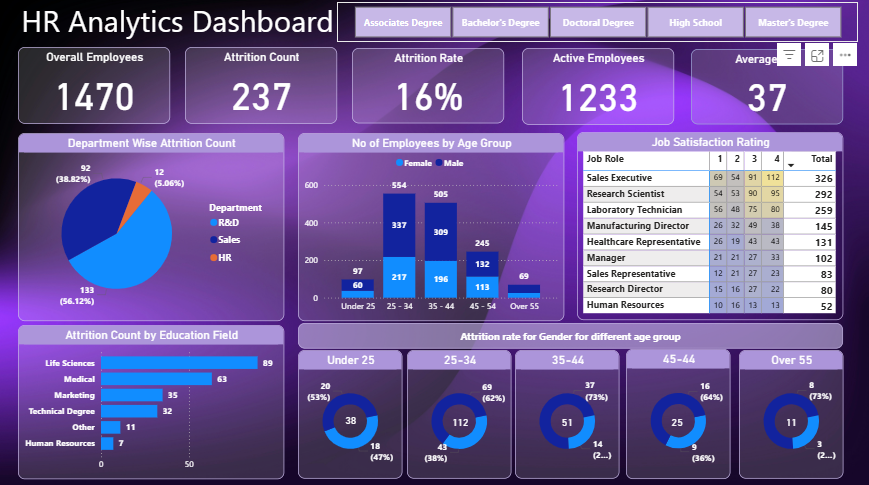

This screenshot's page, from the dashboard's own definition file:
{"tool":"powerbi","page":{"name":"Page 1","canvas":[1280,720],"ordinal":0},"visuals":[{"type":"card","title":"Overall Employees","fields":{"Values":["Sum(Table1.Employee Count)"]},"box":[40.3,82.3,220.1,110.9],"z":0},{"type":"card","title":"Attrition Count","fields":{"Values":["Sum(Table1.Attrition Count)"]},"box":[282.2,82.3,220.1,110.9],"z":1000},{"type":"card","title":"Attrition Rate","fields":{"Values":["Table1.Attrition Rate"]},"box":[524.1,84,220.1,109.2],"z":2000},{"type":"card","title":"Active Employees","fields":{"Values":["Table1.Active Employees"]},"box":[769.3,84,220.1,110.9],"z":3000},{"type":"card","title":"Average Age","fields":{"Values":["Table1.Average Age"]},"box":[1012.9,85.7,220.1,109.2],"z":4000},{"type":"pieChart","title":"Department Wise Attrition Count ","fields":{"Category":["Table1.Department"],"Y":["Sum(Table1.Attrition Count)"]},"box":[40.5,206.7,384.6,271.8],"z":5000},{"type":"columnChart","title":"No of Employees by Age Group","fields":{"Category":["Table1.CF_age band"],"Y":["CountNonNull(Table1.Employee Number)"],"Series":["Table1.Gender"]},"box":[445.1,206.6,384.7,272.1],"z":6000},{"type":"pivotTable","title":"Job Satisfaction Rating","fields":{"Rows":["Table1.Job Role"],"Columns":["Table1.Job Satisfaction"],"Values":["CountNonNull(Table1.Employee Number)"]},"box":[848.3,204.9,384.7,272.1],"z":7000},{"type":"barChart","title":"Attrition Count by Education Field","fields":{"Category":["Table1.Education Field"],"Y":["Sum(Table1.Attrition Count)"]},"box":[40.3,483.8,384.7,223.4],"z":8000},{"type":"donutChart","title":"Under 25","fields":{"Category":["Table1.Gender"],"Y":["Sum(Table1.Attrition Count)"],"Series":["Table1.CF_age band"]},"box":[445.1,520.7,151.2,186.5],"z":9000},{"type":"textbox","box":[445.1,482.1,787.8,37],"z":10000},{"type":"donutChart","title":"25-34","fields":{"Category":["Table1.Gender"],"Y":["Sum(Table1.Attrition Count)"],"Series":["Table1.CF_age band"]},"box":[603,520.7,151.2,186.5],"z":11000},{"type":"donutChart","title":"35-44","fields":{"Category":["Table1.Gender"],"Y":["Sum(Table1.Attrition Count)"],"Series":["Table1.CF_age band"]},"box":[759.3,520.7,151.2,186.5],"z":12000},{"type":"donutChart","title":"45-44","fields":{"Category":["Table1.Gender"],"Y":["Sum(Table1.Attrition Count)"],"Series":["Table1.CF_age band"]},"box":[918.8,519.1,151.2,188.1],"z":13000},{"type":"donutChart","title":"Over 55","fields":{"Category":["Table1.Gender"],"Y":["Sum(Table1.Attrition Count)"],"Series":["Table1.CF_age band"]},"box":[1083.5,520.7,151.2,186.5],"z":14000},{"type":"card","fields":{"Values":["Sum(Table1.Attrition Count)"]},"box":[477.1,589.6,89,67.2],"z":15000},{"type":"card","fields":{"Values":["Sum(Table1.Attrition Count)"]},"box":[640,596.3,79,60.5],"z":16000},{"type":"card","fields":{"Values":["Sum(Table1.Attrition Count)"]},"box":[794.5,596.3,79,60.5],"z":17000},{"type":"card","fields":{"Values":["Sum(Table1.Attrition Count)"]},"box":[954.1,596.3,79,60.5],"z":18000},{"type":"card","fields":{"Values":["Sum(Table1.Attrition Count)"]},"box":[1118.7,596.3,79,60.5],"z":19000},{"type":"textbox","box":[40.5,10.1,481.4,72.3],"z":20000},{"type":"slicer","fields":{"Values":["Table1.Education"]},"box":[501.7,17.3,753.3,57.8],"z":21000}]}

Visuals, with their boxes in screenshot pixels (x1, y1, x2, y2), scaled from the page's 1280x720 canvas onto the 869x485 screenshot:
"Overall Employees" card: [27,55,177,130]
"Attrition Count" card: [192,55,341,130]
"Attrition Rate" card: [356,57,505,130]
"Active Employees" card: [522,57,672,131]
"Average Age" card: [688,58,837,131]
"Department Wise Attrition Count " pieChart: [27,139,289,322]
"No of Employees by Age Group" columnChart: [302,139,563,322]
"Job Satisfaction Rating" pivotTable: [576,138,837,321]
"Attrition Count by Education Field" barChart: [27,326,289,476]
"Under 25" donutChart: [302,351,405,476]
textbox: [302,325,837,350]
"25-34" donutChart: [409,351,512,476]
"35-44" donutChart: [515,351,618,476]
"45-44" donutChart: [624,350,726,476]
"Over 55" donutChart: [736,351,838,476]
card - Sum(Table1.Attrition Count): [324,397,384,442]
card - Sum(Table1.Attrition Count): [434,402,488,442]
card - Sum(Table1.Attrition Count): [539,402,593,442]
card - Sum(Table1.Attrition Count): [648,402,701,442]
card - Sum(Table1.Attrition Count): [759,402,813,442]
textbox: [27,7,354,56]
slicer - Table1.Education: [341,12,852,51]
